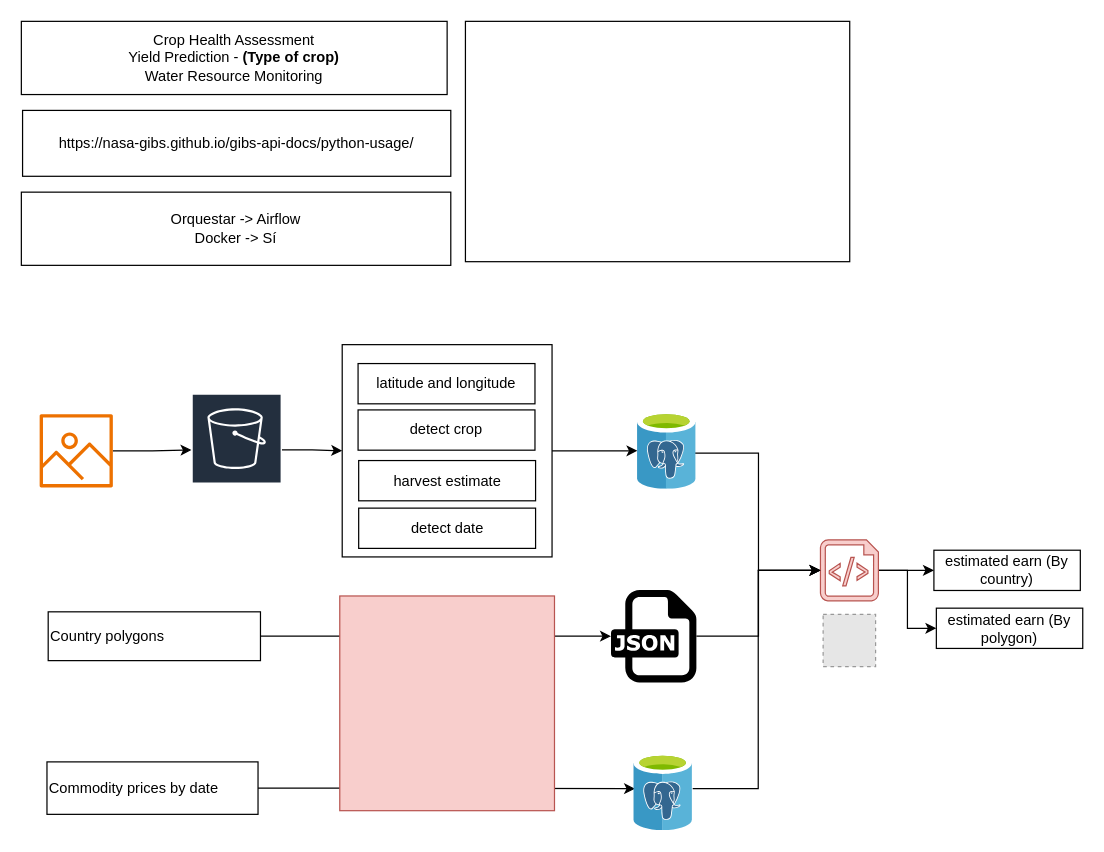
This 1104x852 diagram has some shape labels left out. Grey dashed boxes stand in for pictures. Here are the shapes that lost their labels. From the top down, the centre of each, then its label:
(x=657, y=141): TODOS: dbt (????) AWS -> LAMBDA
(x=236, y=449): Amazon S3
